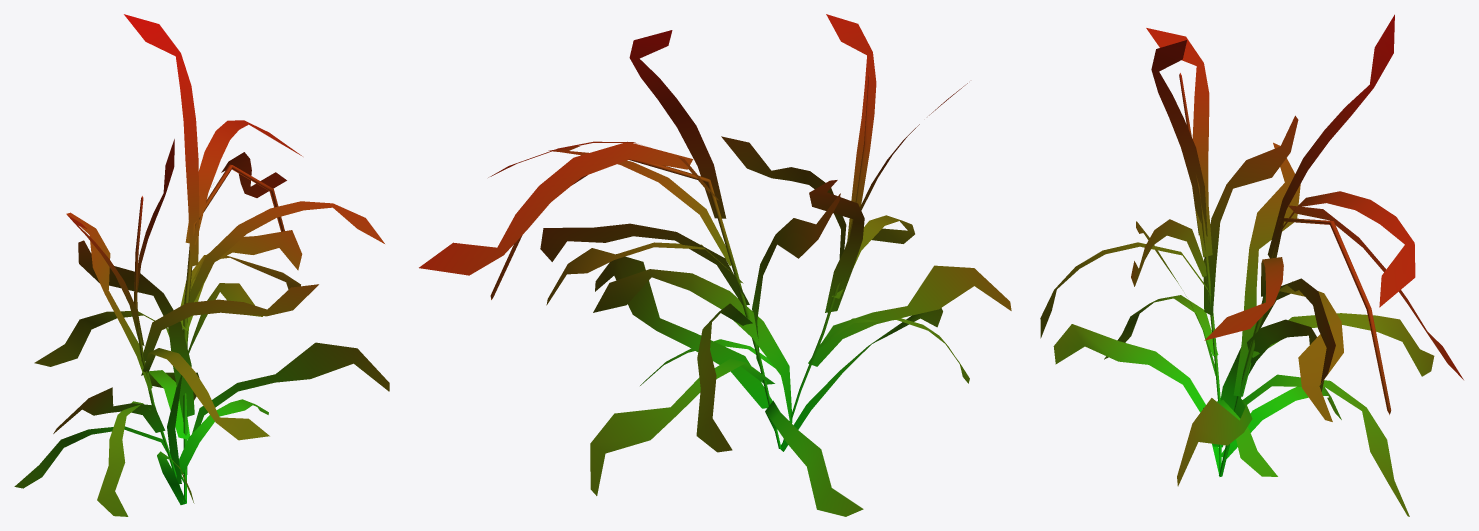
File: Var8_LOD1.fbx
The picture shows the model from 3 angles, left to right: view 1: azimuth 30°, elevation 25°; view 2: azimuth 150°, elevation 25°; view 3: azimuth 270°, elevation 25°; orthographic projection. The views are drawn at different scales.
Parts seen in each view (by area): view 1: _0b93_Var8_LOD1; view 2: _0b93_Var8_LOD1; view 3: _0b93_Var8_LOD1.
Boxes of the visible parts, x1,y1,x2,y2 form: _0b93_Var8_LOD1: (14, 14, 389, 516); _0b93_Var8_LOD1: (419, 14, 1011, 516); _0b93_Var8_LOD1: (1040, 14, 1463, 516).
Bounding box in the file's own units: 29.95 × 32.13 × 26.08.
